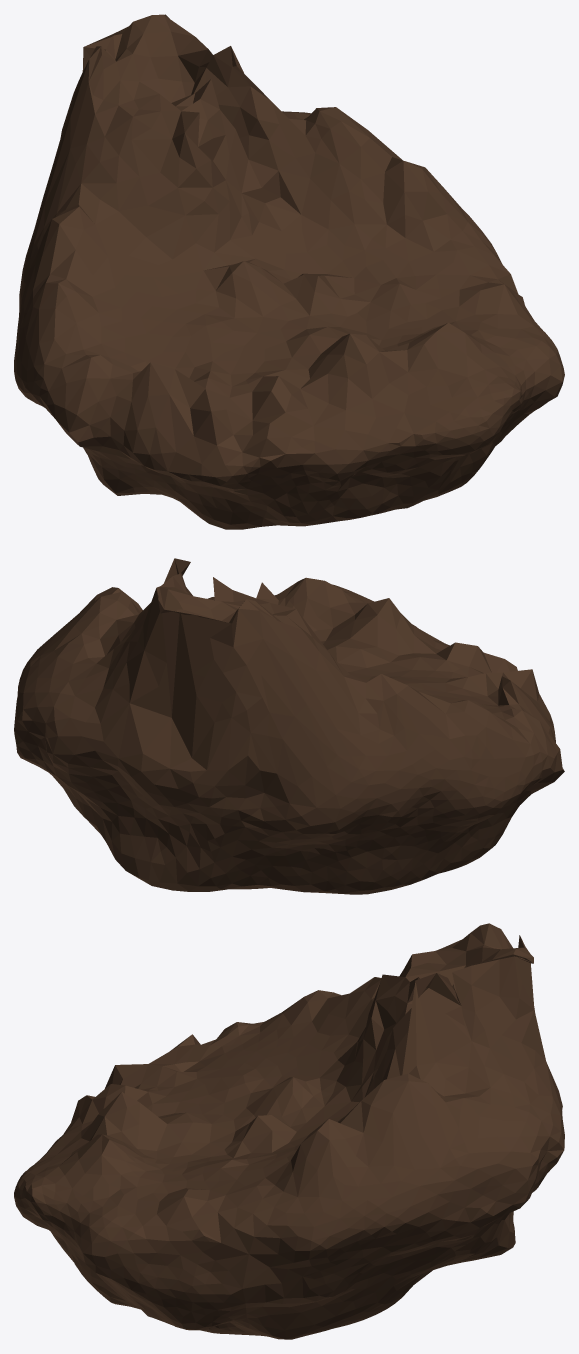
File: lowpolyvolcanic (1).fbx
3 views of the same model, one above another, from view 1: azimuth 30°, elevation 25°; view 2: azimuth 150°, elevation 25°; view 3: azimuth 270°, elevation 25° (orthographic). The views are drawn at different scales.
Parts seen in each view (by area): view 1: Icosphere; view 2: Icosphere; view 3: Icosphere.
Boxes of the visible parts, box(x1,y1,x2,y2) form: Icosphere: box(14, 14, 564, 529); Icosphere: box(14, 558, 564, 894); Icosphere: box(14, 923, 564, 1339).
Bounding box in the file's own units: 442 × 346 × 476.
